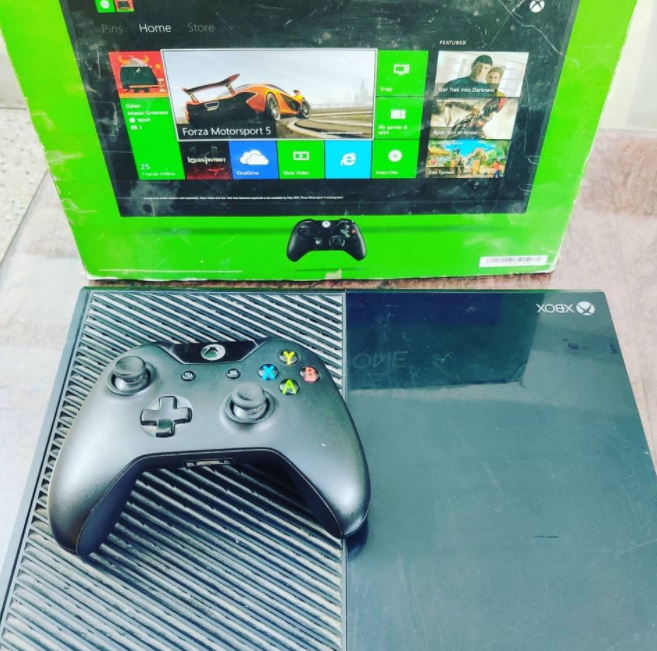gamingconsole: (49, 344, 373, 554)
